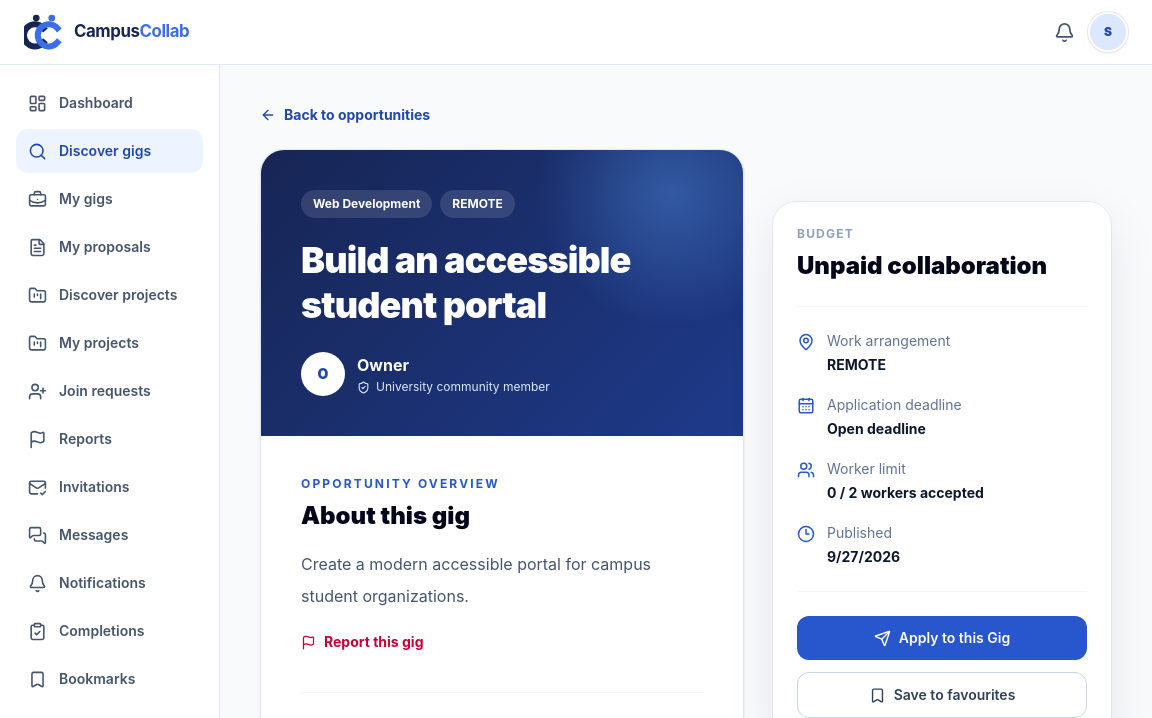
it: Proposal workflow › validates and submits a proposal from an eligible gig
The width and height of the screenshot is (1152, 718).
Step 1. Click the button "Apply to this Gig" → {"x": 942, "y": 638}, box top-left (797, 616), bottom-right (1087, 660)
(page scrolled)
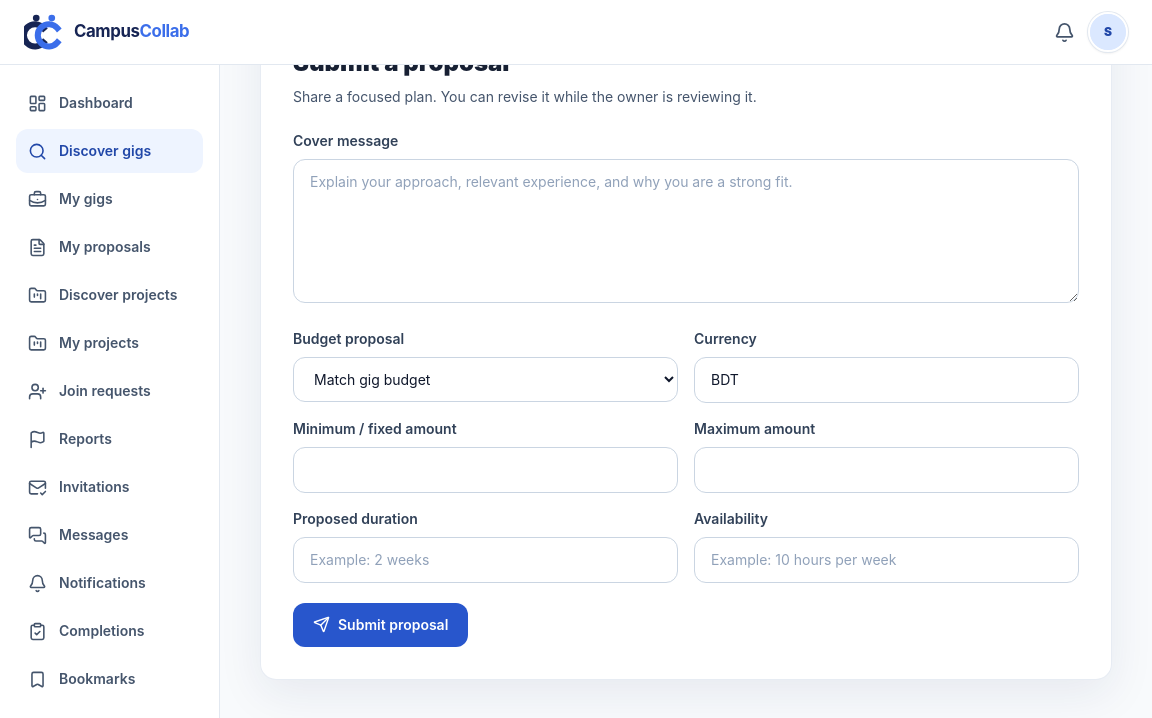
Step 2. Click the button "Submit proposal" → {"x": 381, "y": 624}, box top-left (293, 602), bottom-right (468, 646)
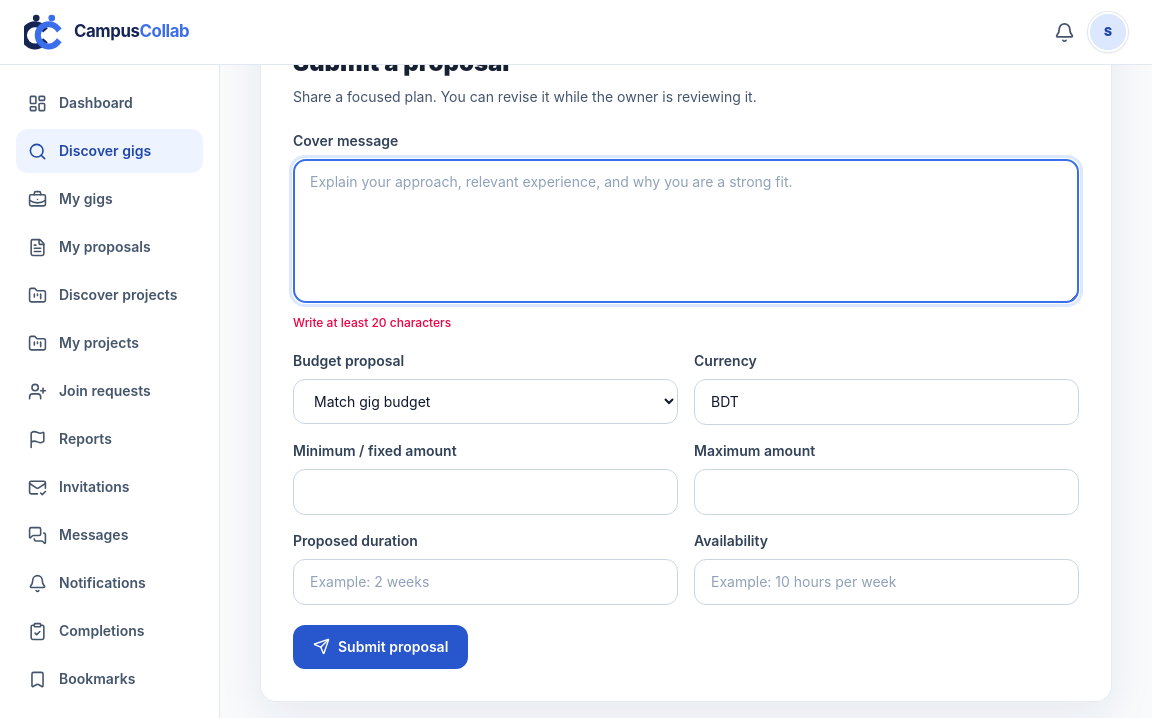
Expected: the text "Write at least 20 characters" is shown, top-left (293, 314), bottom-right (451, 330)
Step 3. Type "I will deliver an accessible, tested portal with clear progress updates." into the text box with placeholder "Explain your approach, relevant experience, and why you are a strong fit." → {"x": 686, "y": 230}, box top-left (293, 158), bottom-right (1079, 302)
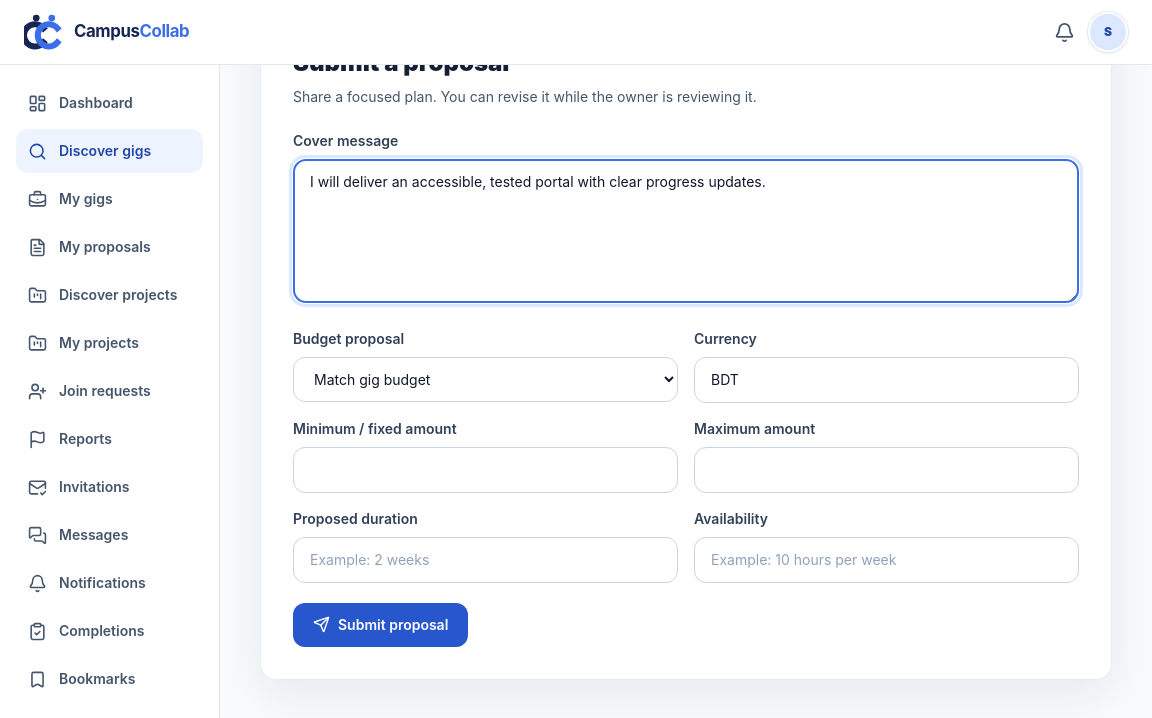
Step 4. Click the button "Submit proposal" → {"x": 381, "y": 624}, box top-left (293, 602), bottom-right (468, 646)
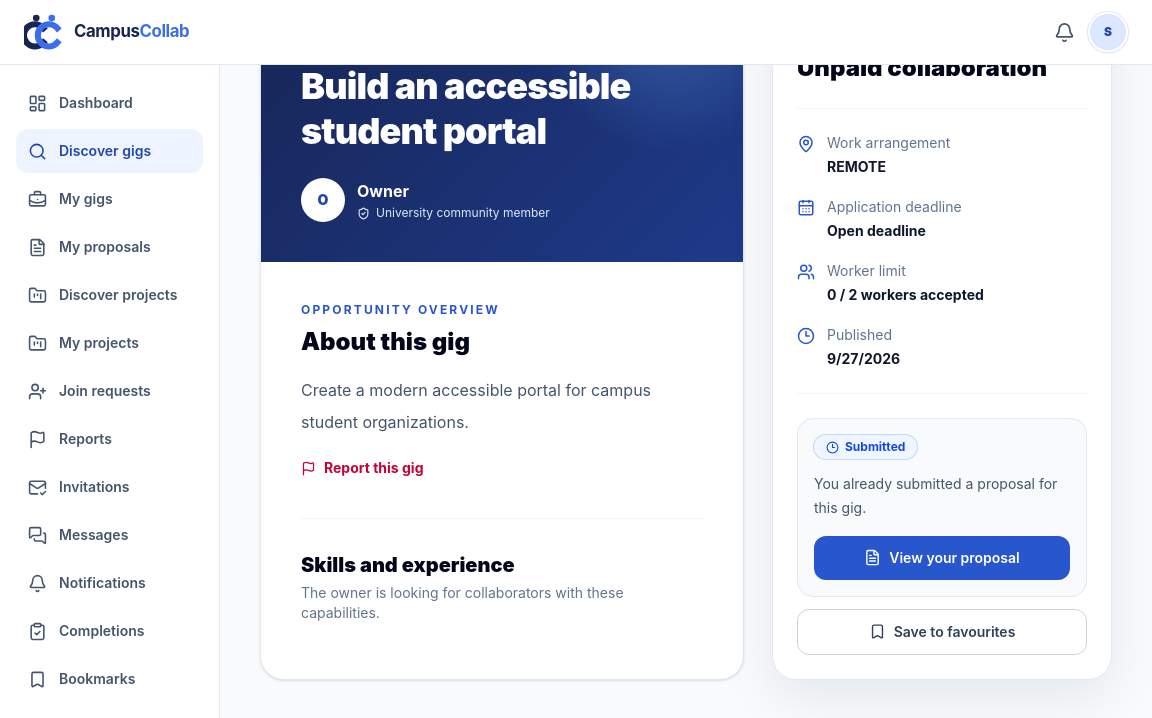
Expected: the element named "Proposal status: Submitted" is shown, top-left (814, 435), bottom-right (917, 459)
